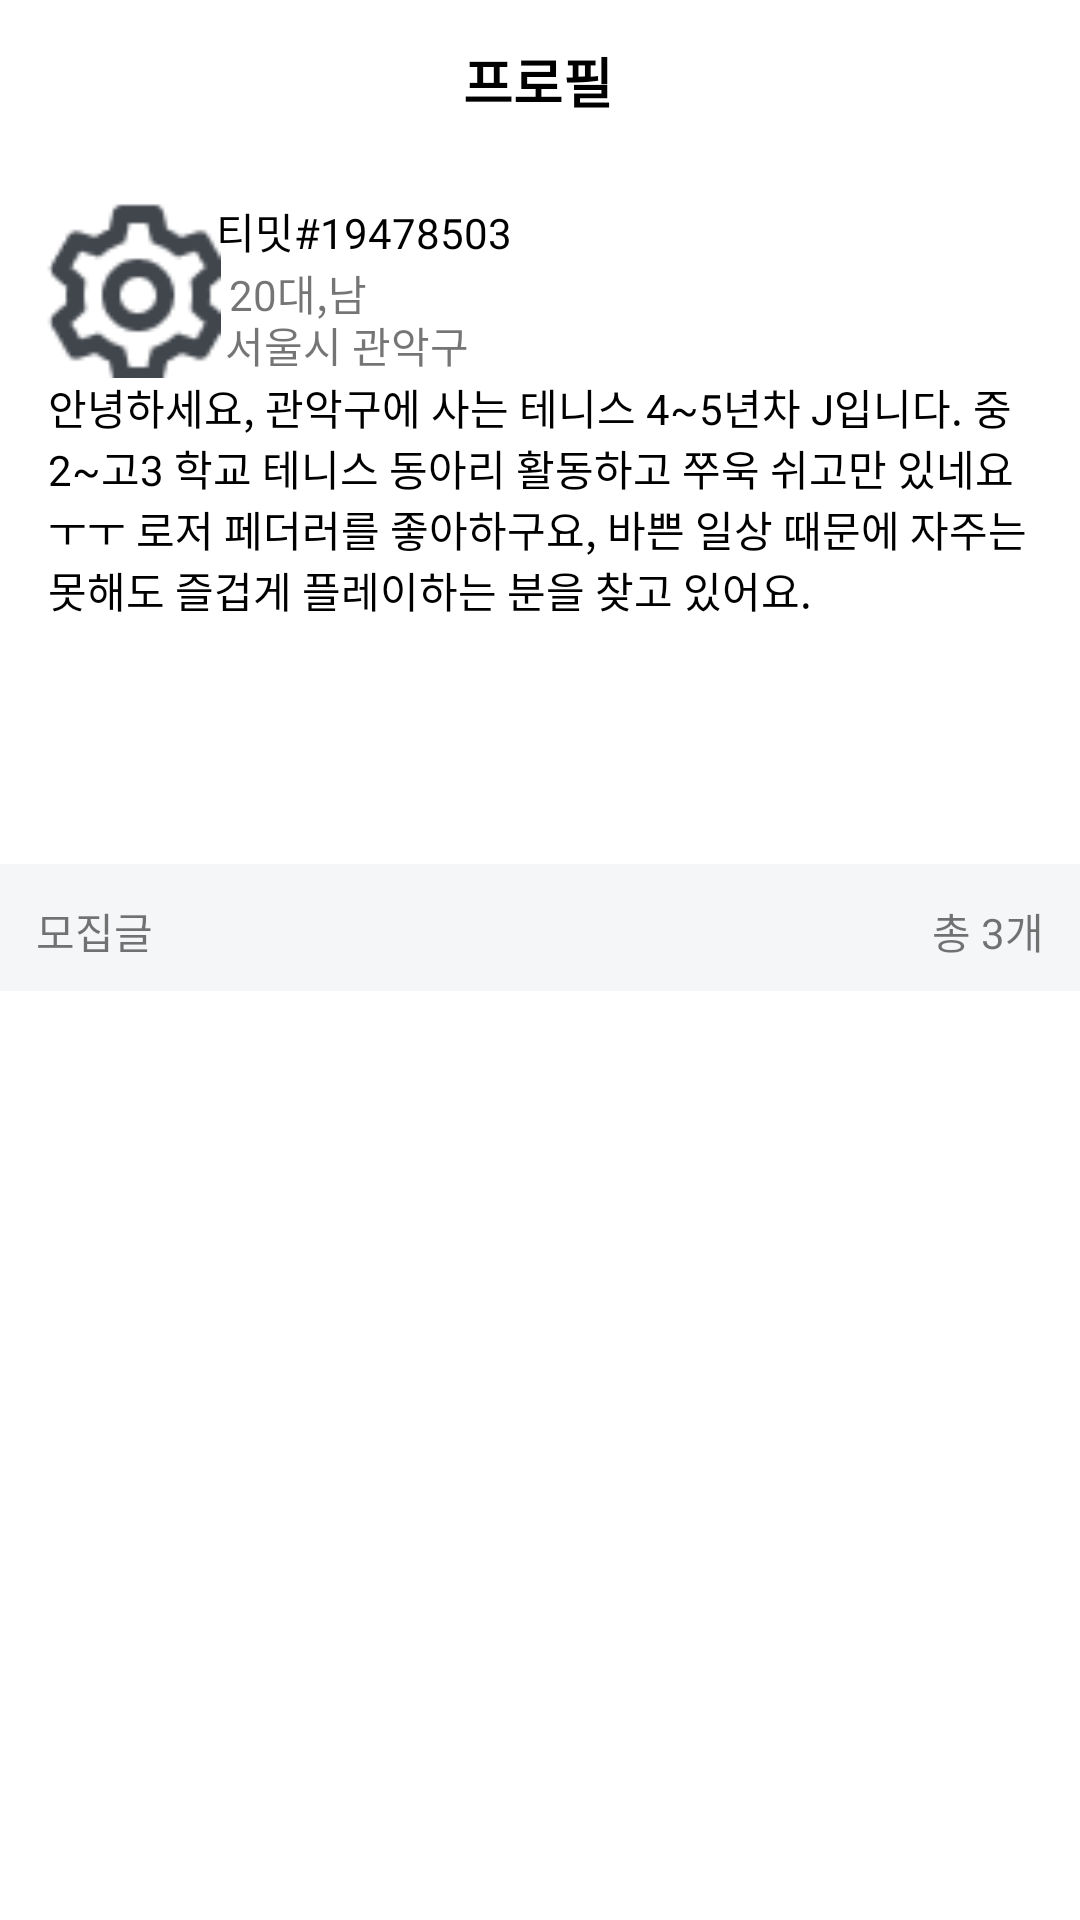

Icon click points for this 1080 x 1920 phone screenshot, format [x,y]:
setting iv: [134,291]
